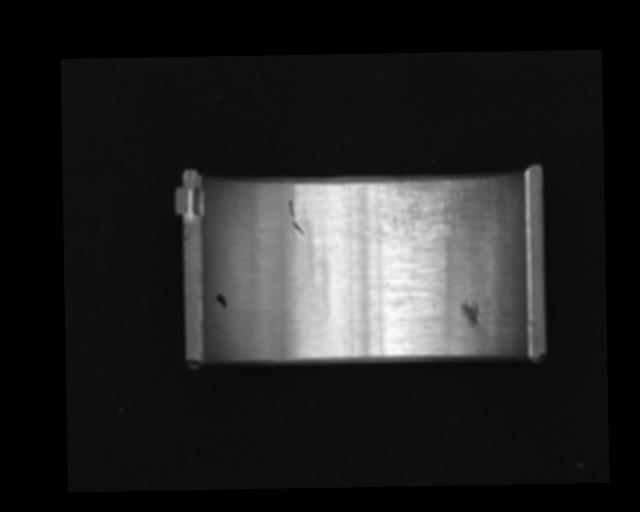blot: (215, 292, 227, 309)
bruise: (459, 298, 481, 327)
nick: (288, 198, 303, 234)
scratch: (349, 179, 475, 248)
